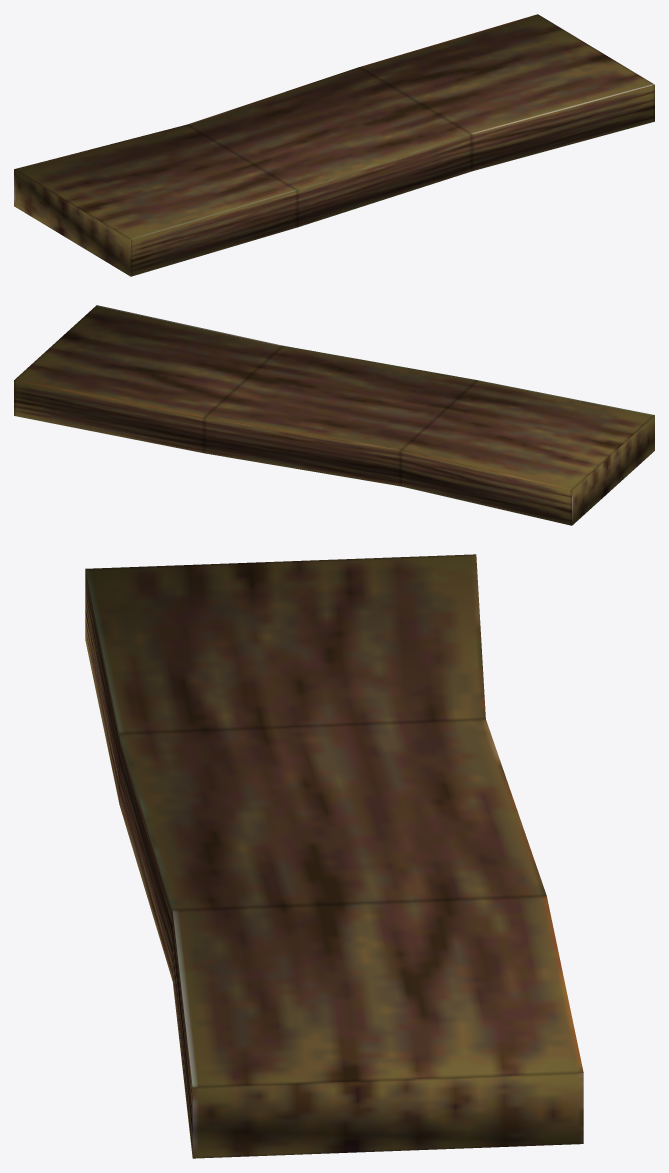
The picture shows the model from 3 angles, top to bottom: view 1: azimuth 30°, elevation 25°; view 2: azimuth 150°, elevation 25°; view 3: azimuth 270°, elevation 25°; orthographic projection. The views are drawn at different scales.
Parts seen in each view (by area): view 1: T1L8M005_13; view 2: T1L8M005_13; view 3: T1L8M005_13.
Boxes of the visible parts, x1,y1,x2,y2 form: T1L8M005_13: (14,14,654,276); T1L8M005_13: (14,305,654,525); T1L8M005_13: (85,554,583,1158).
Size of the model in its own units: 3.21 by 0.2002 by 1.27.
